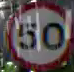Speed limit: (3, 0, 73, 66)
